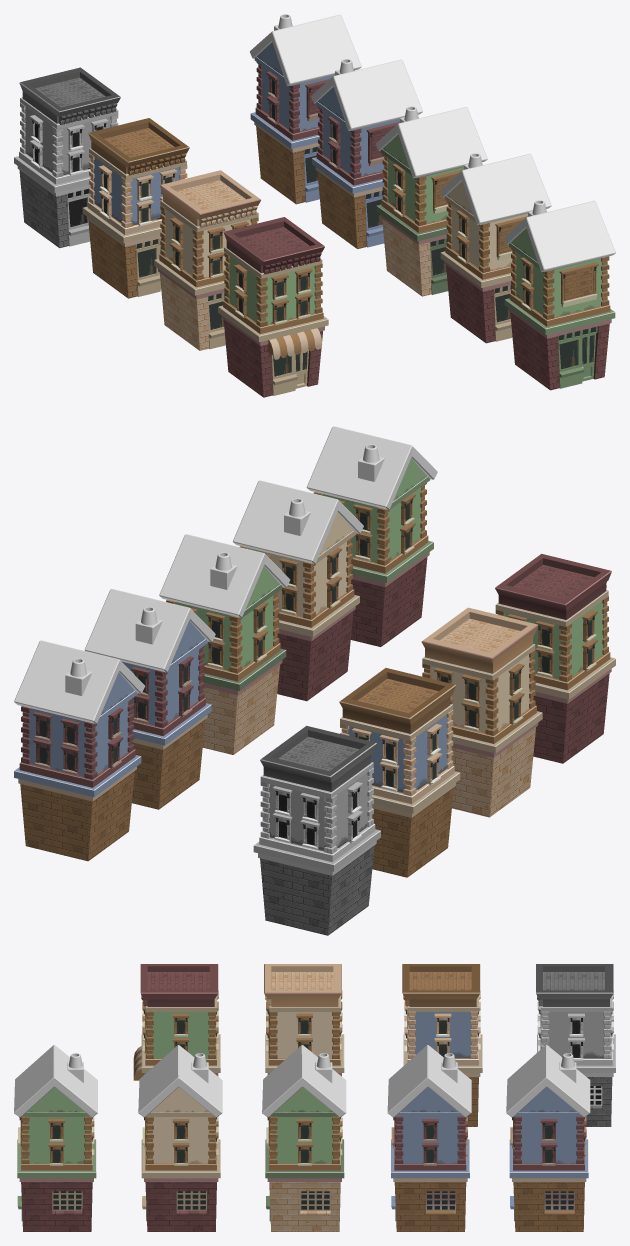
The model's file is townhouses.fbx.
3 views of the same model, one above another, from view 1: azimuth 30°, elevation 25°; view 2: azimuth 150°, elevation 25°; view 3: azimuth 270°, elevation 25° (orthographic). The views are drawn at different scales.
Parts seen in each view (by area): view 1: cityhouse2_green, cityhouse1_green, cityhouse1_blue, cityhouse2_blue, cityhouse2_orange, cityhouse2_pink, cityhouse1_broken, cityhouse2_white, cityhouse1_yellow; view 2: cityhouse2_white, cityhouse1_broken, cityhouse1_yellow, cityhouse2_pink, cityhouse2_green, cityhouse2_orange, cityhouse1_blue, cityhouse2_blue, cityhouse1_green; view 3: cityhouse2_pink, cityhouse2_orange, cityhouse2_white, cityhouse2_green, cityhouse2_blue, cityhouse1_broken, cityhouse1_blue, cityhouse1_green, cityhouse1_yellow.
Part boxes in pixels (x1,y1,x2,y2): cityhouse2_green: [504, 200, 615, 390]; cityhouse1_green: [218, 217, 328, 397]; cityhouse1_blue: [83, 118, 189, 298]; cityhouse2_blue: [311, 59, 422, 248]; cityhouse2_orange: [440, 153, 551, 343]; cityhouse2_pink: [376, 106, 487, 296]; cityhouse1_broken: [14, 67, 120, 248]; cityhouse2_white: [250, 14, 361, 204]; cityhouse1_yellow: [154, 170, 260, 350]; cityhouse2_white: [14, 640, 145, 861]; cityhouse1_broken: [253, 725, 380, 935]; cityhouse1_yellow: [421, 607, 542, 817]; cityhouse2_pink: [159, 534, 290, 754]; cityhouse2_green: [306, 426, 437, 646]; cityhouse2_orange: [233, 480, 363, 701]; cityhouse1_blue: [339, 668, 460, 877]; cityhouse2_blue: [84, 588, 215, 809]; cityhouse1_green: [495, 553, 615, 763]; cityhouse2_pink: [262, 1045, 346, 1231]; cityhouse2_orange: [138, 1045, 222, 1231]; cityhouse2_white: [506, 1045, 590, 1231]; cityhouse2_green: [14, 1045, 97, 1231]; cityhouse2_blue: [387, 1045, 471, 1231]; cityhouse1_broken: [536, 964, 615, 1126]; cityhouse1_blue: [402, 964, 482, 1126]; cityhouse1_green: [133, 964, 220, 1080]; cityhouse1_yellow: [264, 964, 344, 1076].
Bounding box in the file's own units: 13.43 × 7.06 × 24.2.
3 materials, 2 textured.
